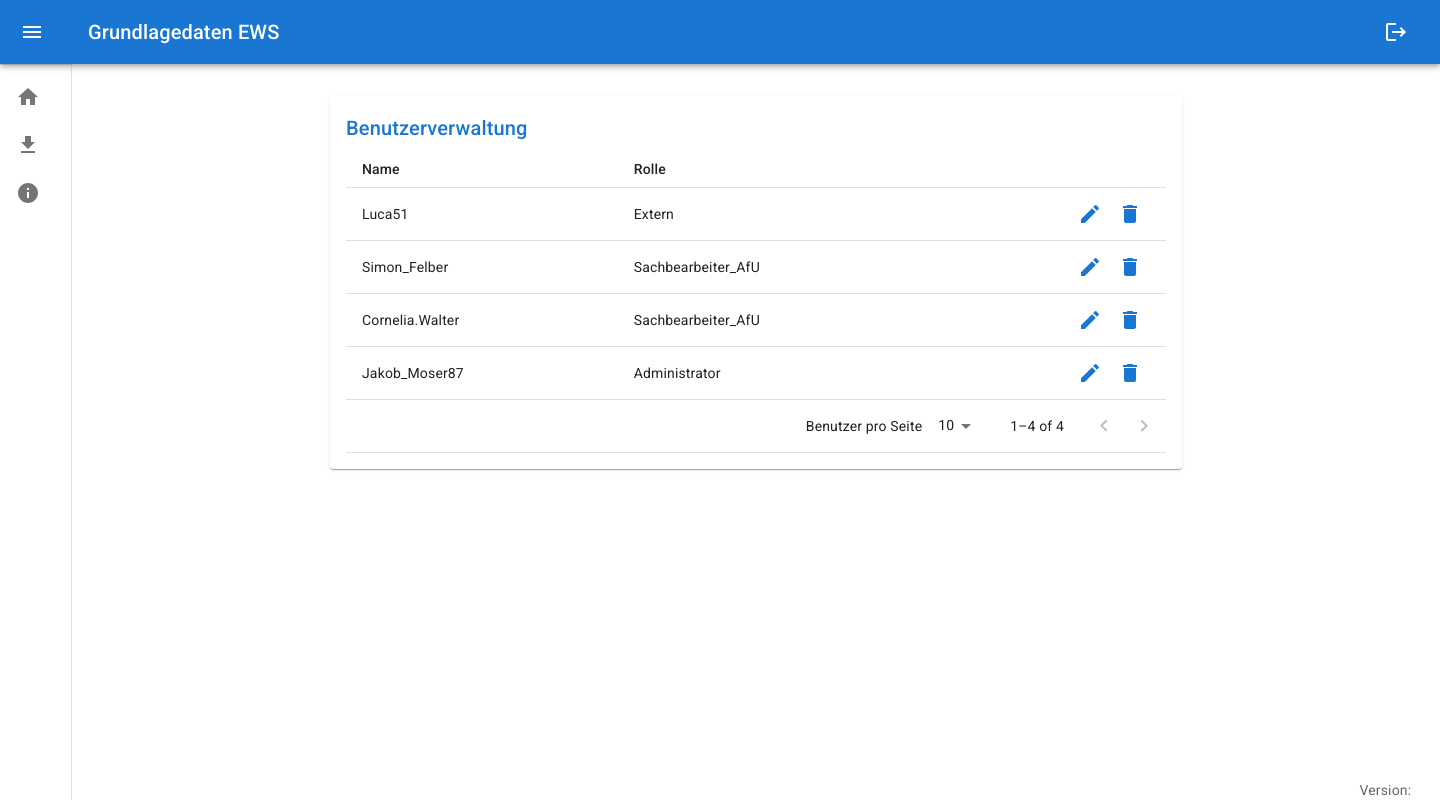
Scenario: User page tests › Delete a specific user
Expected: the text "Simon_Felber" is shown, [346,240,618,294]
Click the button named "delete user" in the row of "Simon_Felber".
click(1130, 267)  # box [1110,247,1150,287]
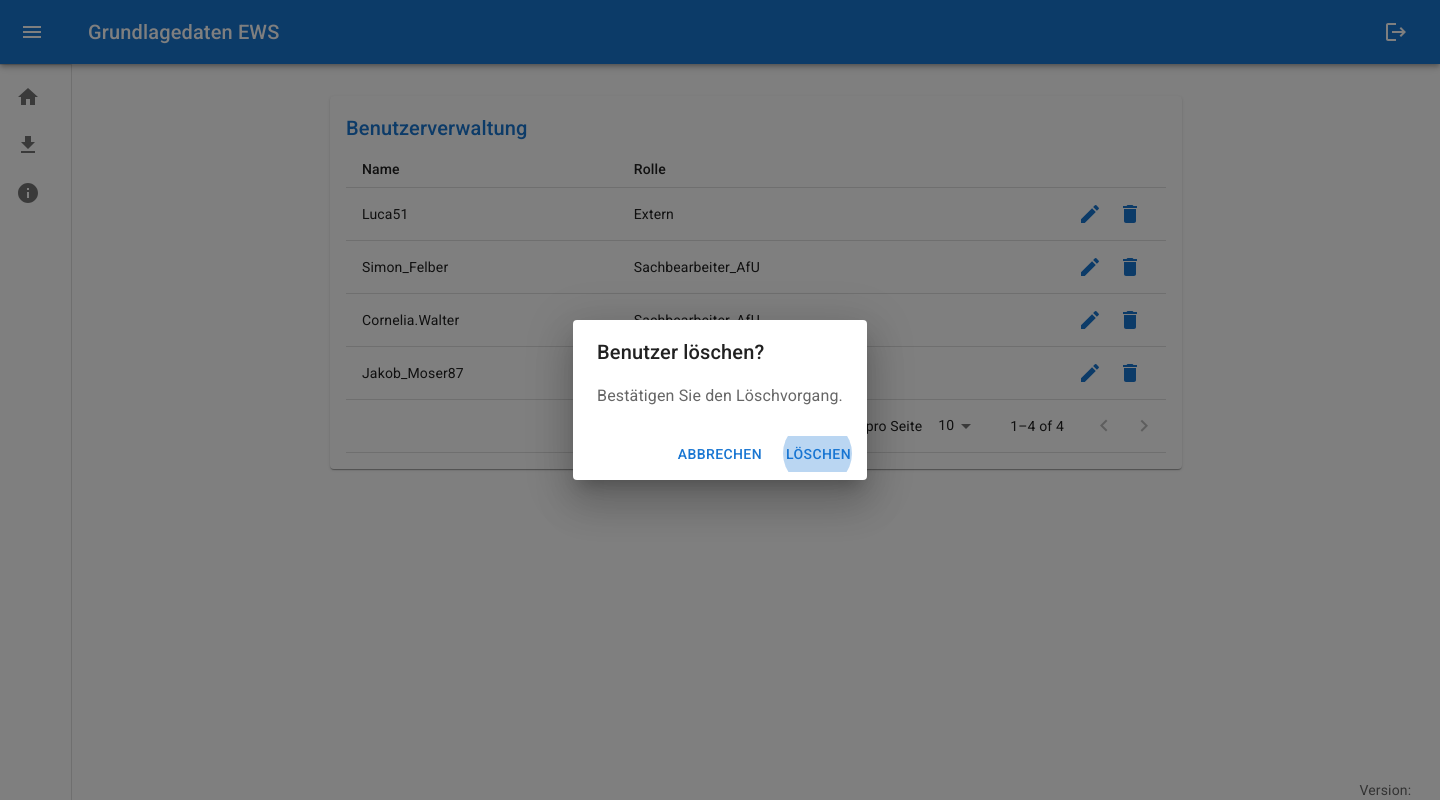
Click the button "Löschen".
click(819, 455)  # box [778,436,859,473]
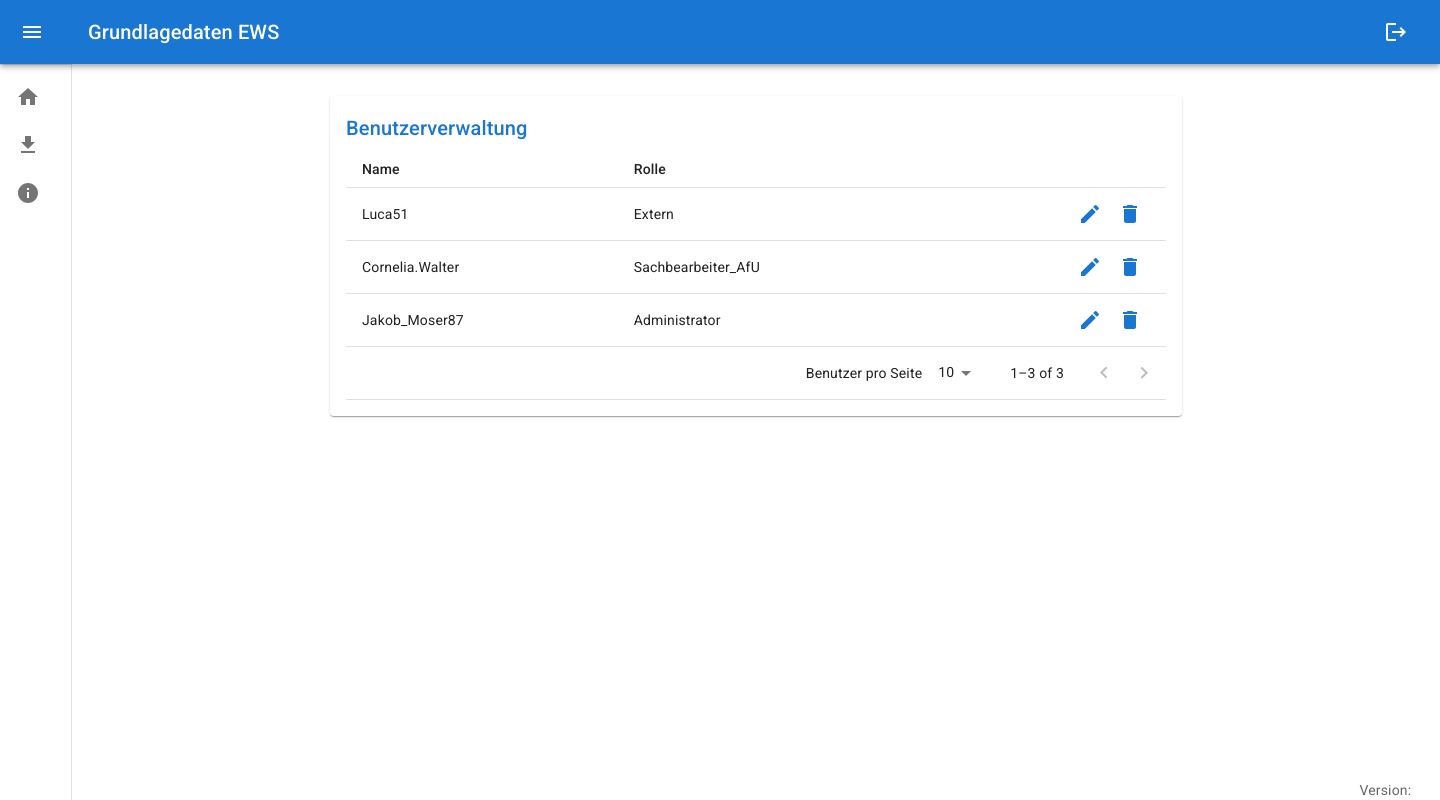
Result: the text "Simon_Felber" is gone
